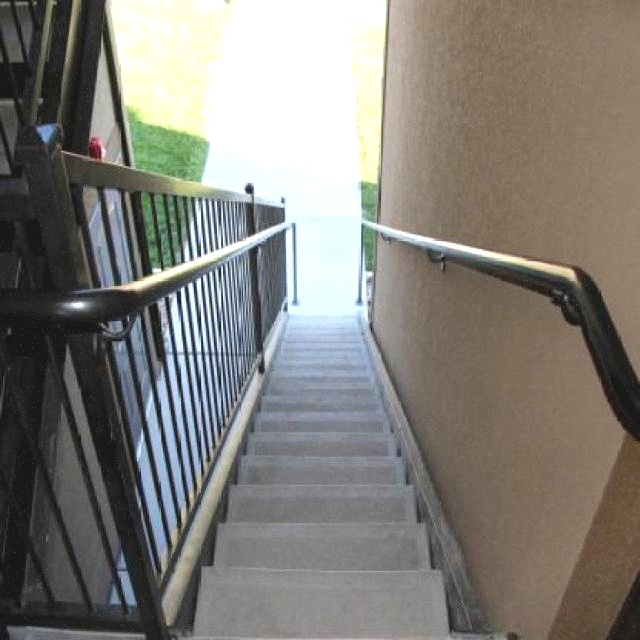stair: (153, 142, 529, 639)
